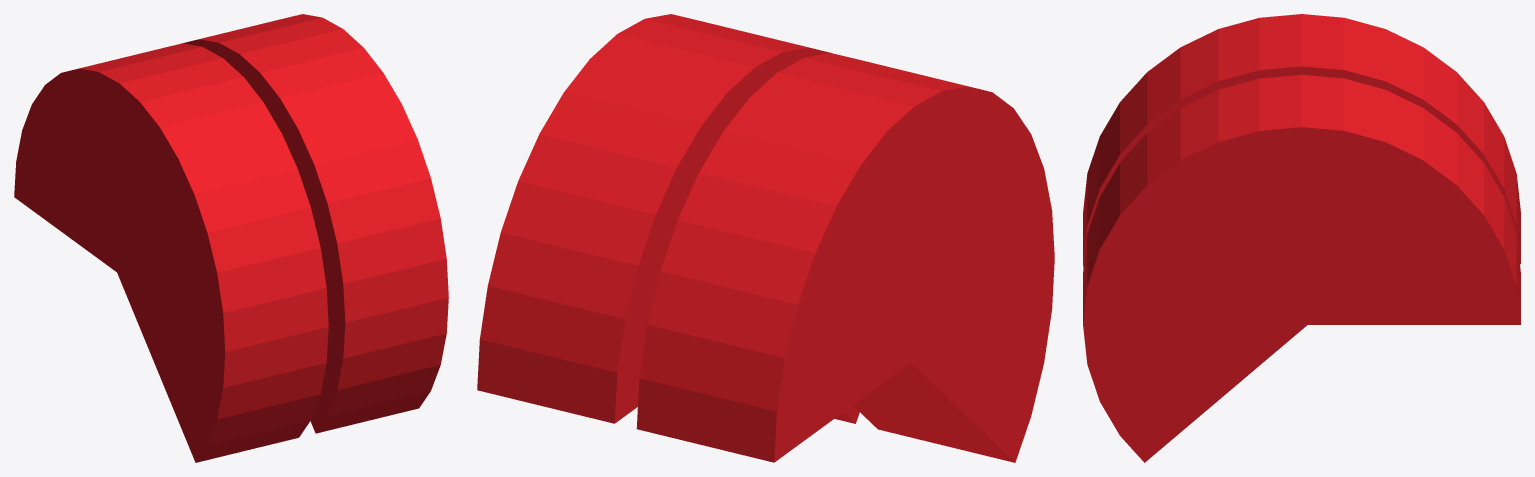
Rendered from planeRedButtons.obj.
The picture shows the model from 3 angles, left to right: view 1: azimuth 30°, elevation 25°; view 2: azimuth 150°, elevation 25°; view 3: azimuth 270°, elevation 25°; orthographic projection. The views are drawn at different scales.
Parts seen in each view (by area): view 1: Cylinder.007_Cylinder.026; view 2: Cylinder.007_Cylinder.026; view 3: Cylinder.007_Cylinder.026.
Boxes of the visible parts, x1,y1,x2,y2 form: Cylinder.007_Cylinder.026: [14, 14, 448, 462]; Cylinder.007_Cylinder.026: [477, 14, 1054, 462]; Cylinder.007_Cylinder.026: [1083, 14, 1520, 462].
Bounding box in the file's own units: 5.07 × 7.02 × 8.29.
